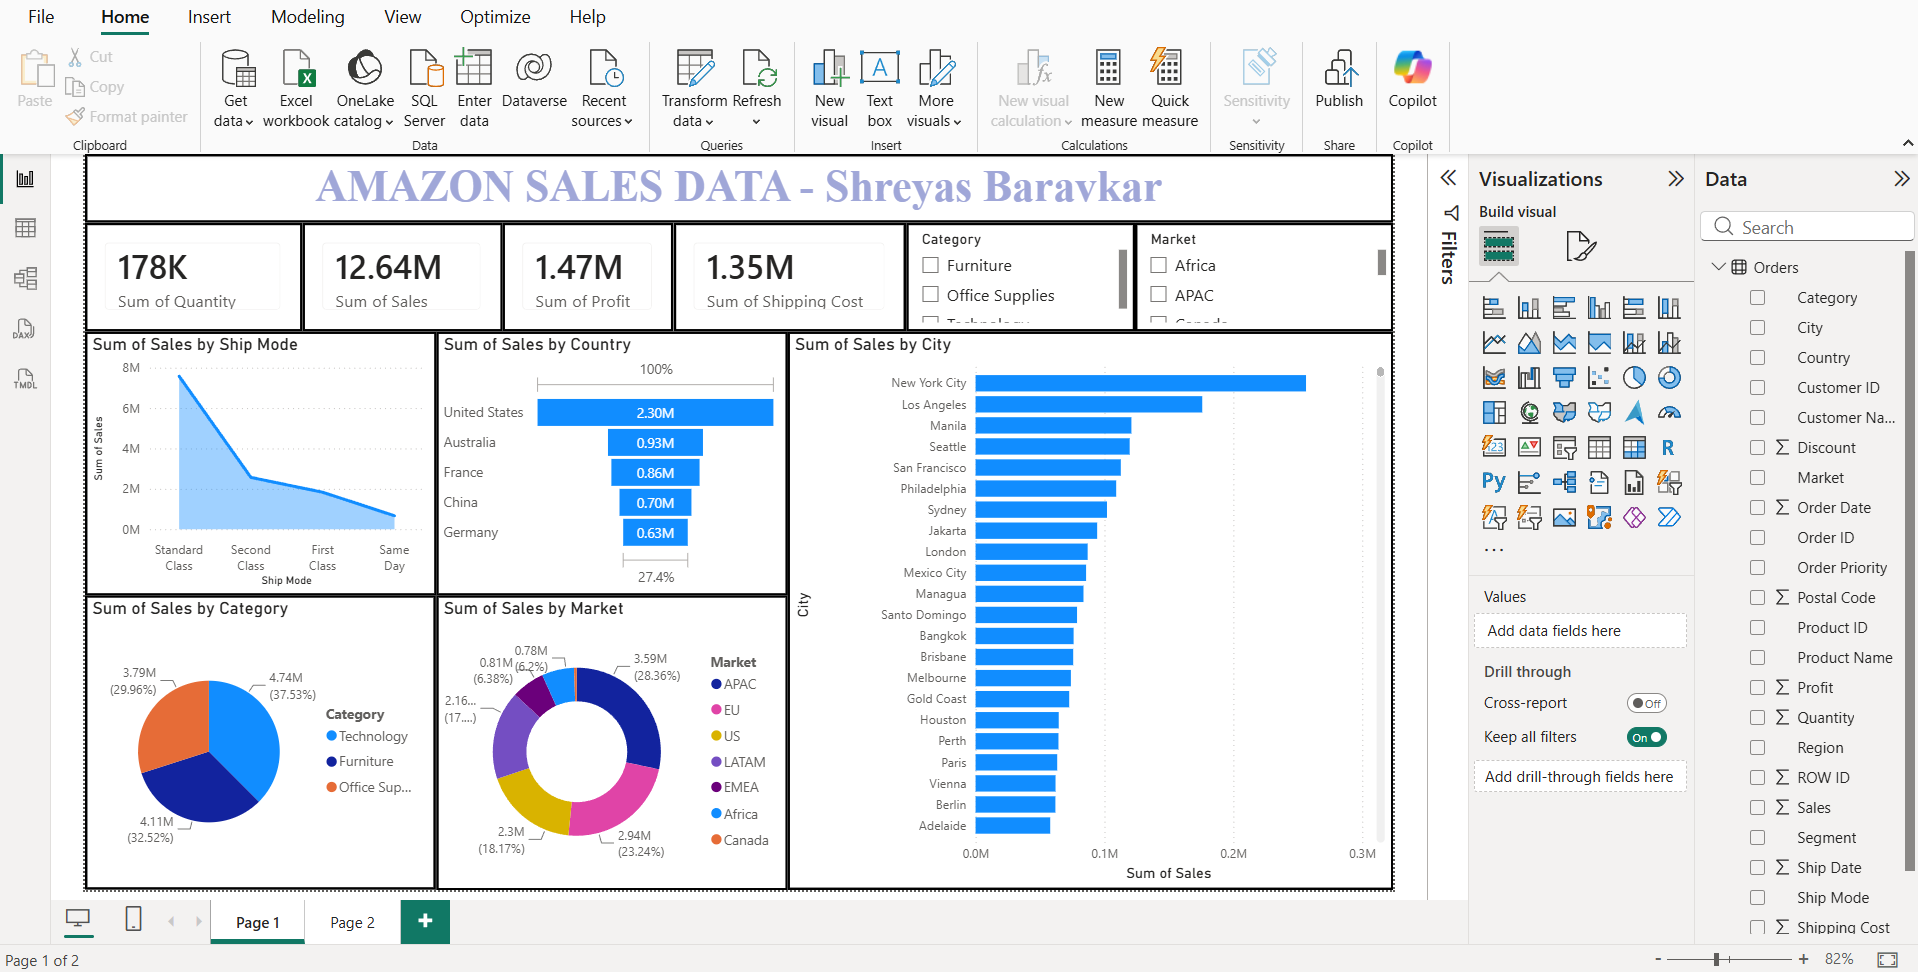

What the dashboard file says about the page in this screenshot:
{"tool":"powerbi","page":{"name":"Page 1","canvas":[1280,720],"ordinal":0},"visuals":[{"type":"pieChart","fields":{"Category":["Orders.Category"],"Y":["Sum(Orders.Sales)"]},"box":[0,432.2,343.1,288.2],"z":0},{"type":"donutChart","fields":{"Category":["Orders.Market"],"Y":["Sum(Orders.Sales)"]},"box":[343.6,431.7,343.6,288.6],"z":1000},{"type":"areaChart","fields":{"Category":["Orders.Ship Mode"],"Y":["Sum(Orders.Sales)"]},"box":[0,173.6,343.6,258],"z":2000},{"type":"clusteredBarChart","fields":{"Category":["Orders.City"],"Y":["Sum(Orders.Sales)"]},"box":[687.2,173.6,593.1,546.6],"z":3000},{"type":"funnel","fields":{"Category":["Orders.Country"],"Y":["Sum(Orders.Sales)"]},"box":[343.6,173.6,343.6,258],"z":3001},{"type":"textbox","box":[0,0,1280.3,67.3],"z":3002},{"type":"cardVisual","fields":{"Data":["Sum(Orders.Quantity)"]},"box":[0,67.3,212.8,106.4],"z":3003},{"type":"cardVisual","fields":{"Data":["Sum(Orders.Sales)"]},"box":[212.8,67.3,195.7,106.4],"z":3004},{"type":"cardVisual","fields":{"Data":["Sum(Orders.Profit)"]},"box":[408.4,67.3,167.5,106.4],"z":3005},{"type":"cardVisual","fields":{"Data":["Sum(Orders.Shipping Cost)"]},"box":[576,67.3,227.4,106.4],"z":3006},{"type":"slicer","fields":{"Values":["Orders.Category"]},"box":[803.4,67.3,223.8,106.4],"z":3007},{"type":"slicer","fields":{"Values":["Orders.Market"]},"box":[1027.2,67.3,253.1,106.4],"z":3008}]}

Visuals, with their boxes on the page's 1280x720 design canvas (x1, y1, x2, y2). These are canvas units, not pixel positions in the 1918x972 screenshot, which may show the page scaled, cropped or inside an application window:
pieChart - Orders.Category x Sum(Orders.Sales): rect(0, 432, 343, 720)
donutChart - Orders.Market x Sum(Orders.Sales): rect(344, 432, 687, 720)
areaChart - Orders.Ship Mode x Sum(Orders.Sales): rect(0, 174, 344, 432)
clusteredBarChart - Orders.City x Sum(Orders.Sales): rect(687, 174, 1280, 720)
funnel - Orders.Country x Sum(Orders.Sales): rect(344, 174, 687, 432)
textbox: rect(0, 0, 1280, 67)
cardVisual - Sum(Orders.Quantity): rect(0, 67, 213, 174)
cardVisual - Sum(Orders.Sales): rect(213, 67, 408, 174)
cardVisual - Sum(Orders.Profit): rect(408, 67, 576, 174)
cardVisual - Sum(Orders.Shipping Cost): rect(576, 67, 803, 174)
slicer - Orders.Category: rect(803, 67, 1027, 174)
slicer - Orders.Market: rect(1027, 67, 1280, 174)
